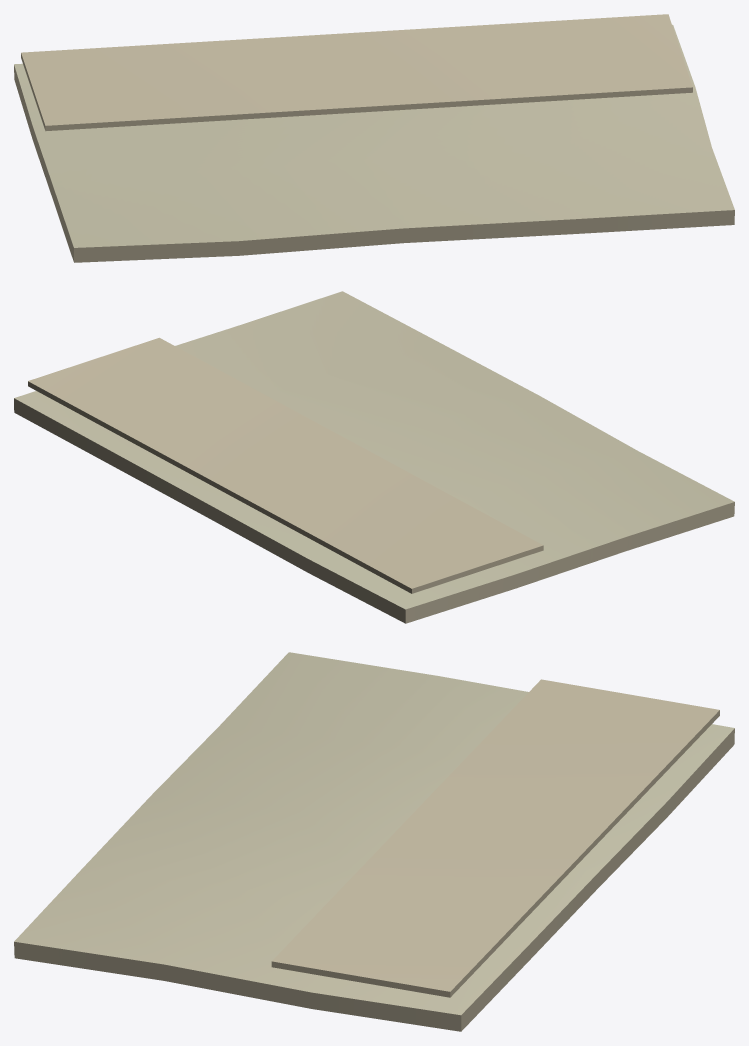
Rendered from ph_item_nameless_letter.glb.
3 views of the same model, one above another, from view 1: azimuth 30°, elevation 25°; view 2: azimuth 150°, elevation 25°; view 3: azimuth 270°, elevation 25° (orthographic). The views are drawn at different scales.
Visible parts, largest first — view 1: ph_item_nameless_letter; view 2: ph_item_nameless_letter; view 3: ph_item_nameless_letter.
Boxes of the visible parts, box(x1,y1,x2,y2) form: ph_item_nameless_letter: box(14, 14, 734, 262); ph_item_nameless_letter: box(14, 291, 734, 623); ph_item_nameless_letter: box(14, 652, 734, 1031).
Size of the model in its own units: 0.1501 by 0.00735 by 0.1257.
